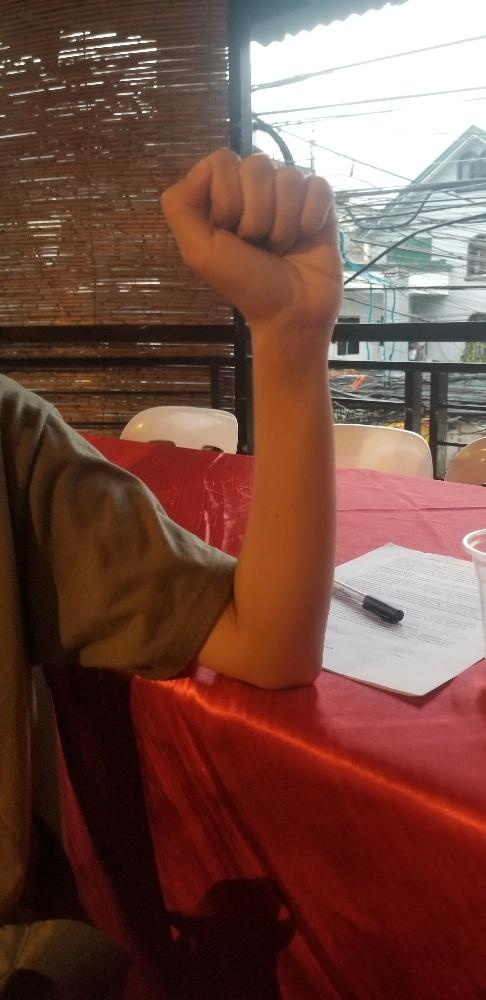a: (157, 145, 343, 316)
